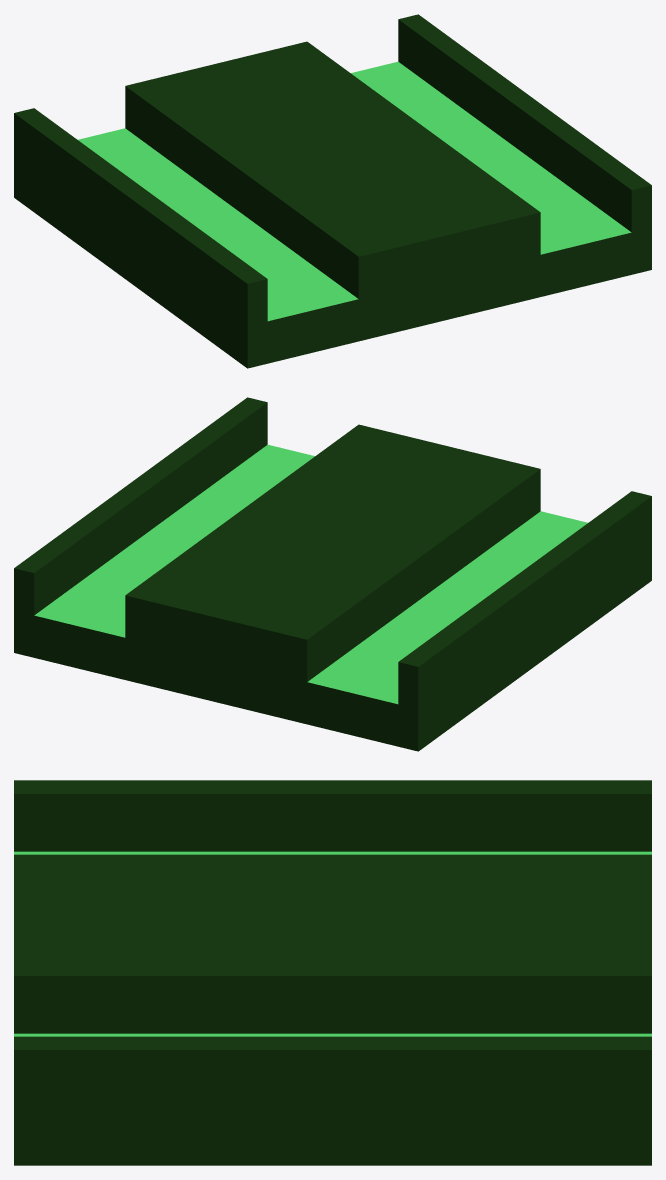
The model's file is MG Dual Lane.fbx.
The picture shows the model from 3 angles, top to bottom: view 1: azimuth 30°, elevation 25°; view 2: azimuth 150°, elevation 25°; view 3: azimuth 270°, elevation 25°; orthographic projection. The views are drawn at different scales.
Visible parts, largest first — view 1: MG Dual Lane; view 2: MG Dual Lane; view 3: MG Dual Lane.
Part boxes in pixels (box(x1,y1,x2,y2)): MG Dual Lane: box(14, 14, 651, 368); MG Dual Lane: box(14, 397, 651, 751); MG Dual Lane: box(14, 780, 651, 1165).
Size of the model in its own units: 200 by 40 by 200.
